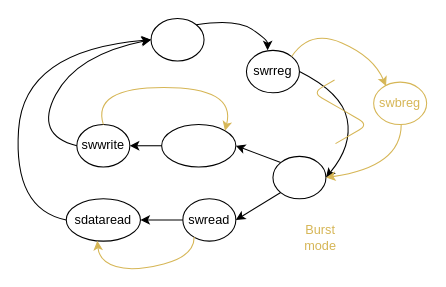
Image size: 446x287. Some labels were removed from this diagram. Here are the shapes that lost their labels. From the top down, the centre of each, then its label:
point 177,39: sinit
point 198,145: sdatawrite
point 299,177: saddr
